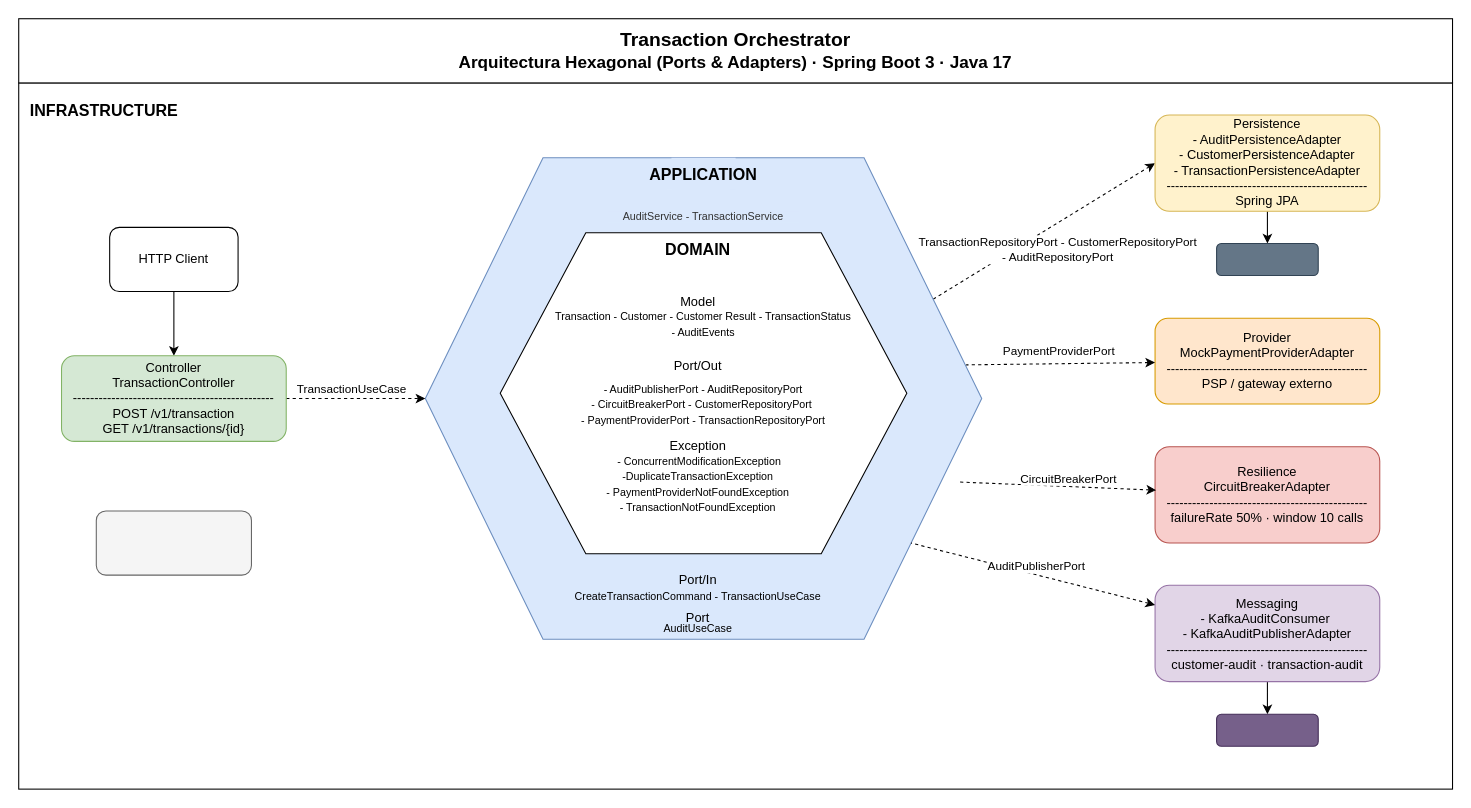
Image size: 1471x808. Some labels were removed from this diagram. Each missing label, with the centre of its shape:
GlobalExceptionHandler @RestControllerAdvice: pixel 173 542
Kafka: pixel 1267 729
PostgreSQL: pixel 1267 259
Service: pixel 698 200
